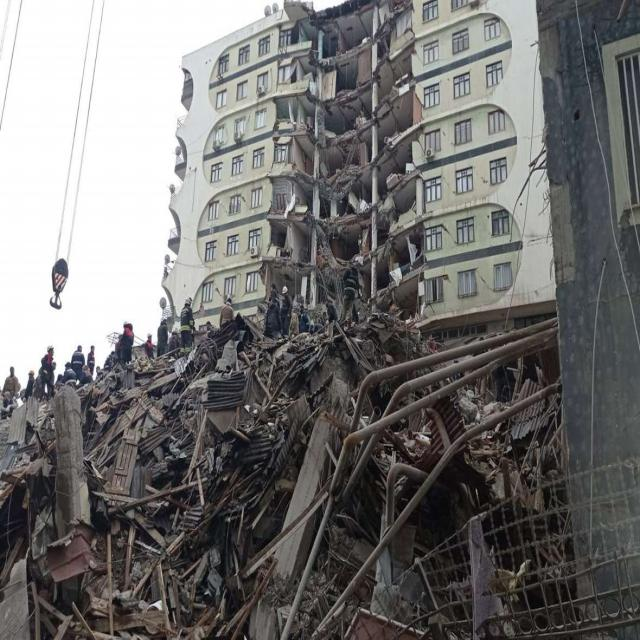Earthquake: (155, 33, 551, 640)
